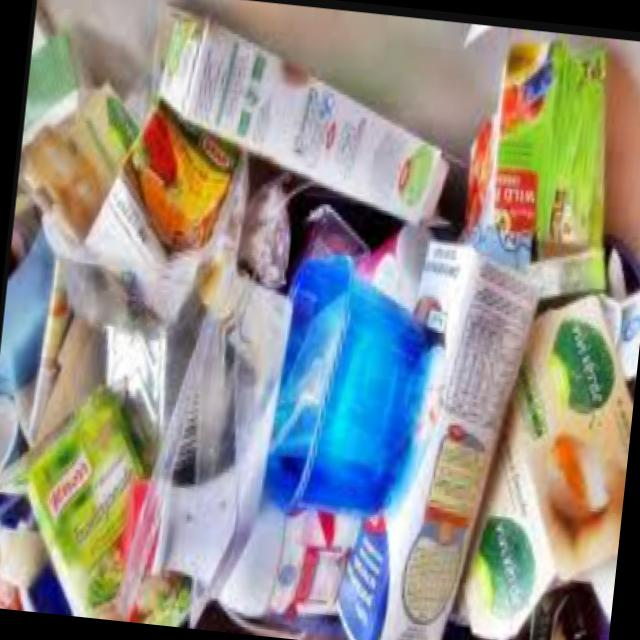KemasanPlastik: (258, 241, 438, 548)
